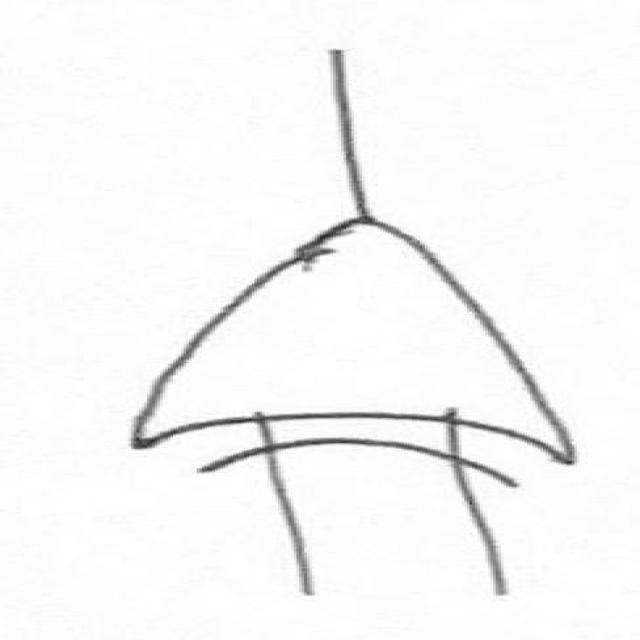XOR: (81, 185, 636, 505)
